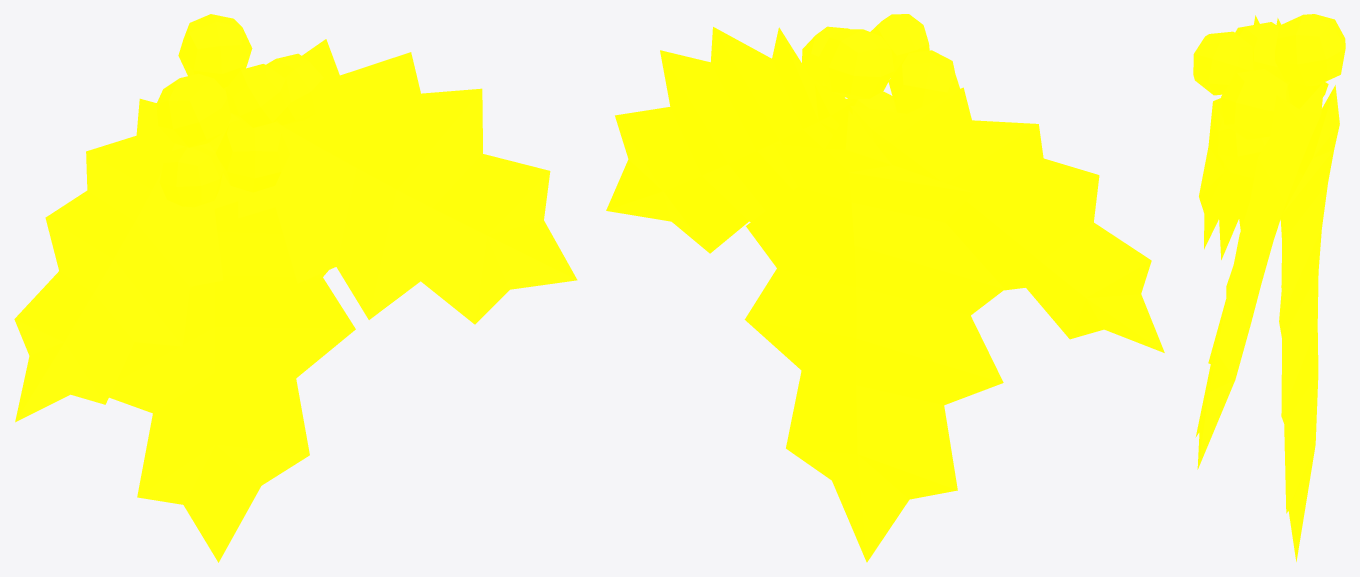
File: holly-plant.glb
3 views of the same model, side by side, from view 1: azimuth 30°, elevation 25°; view 2: azimuth 150°, elevation 25°; view 3: azimuth 270°, elevation 25° (orthographic). The views are drawn at different scales.
Parts seen in each view (by area): view 1: holly_plant; view 2: holly_plant; view 3: holly_plant.
Boxes of the visible parts, box(x1,y1,x2,y2) form: holly_plant: box(14, 14, 577, 562); holly_plant: box(606, 14, 1164, 562); holly_plant: box(1193, 14, 1345, 561).
Bounding box in the file's own units: 0.1704 × 0.156 × 0.0393.
Materials: 1 (1 with a texture image).
